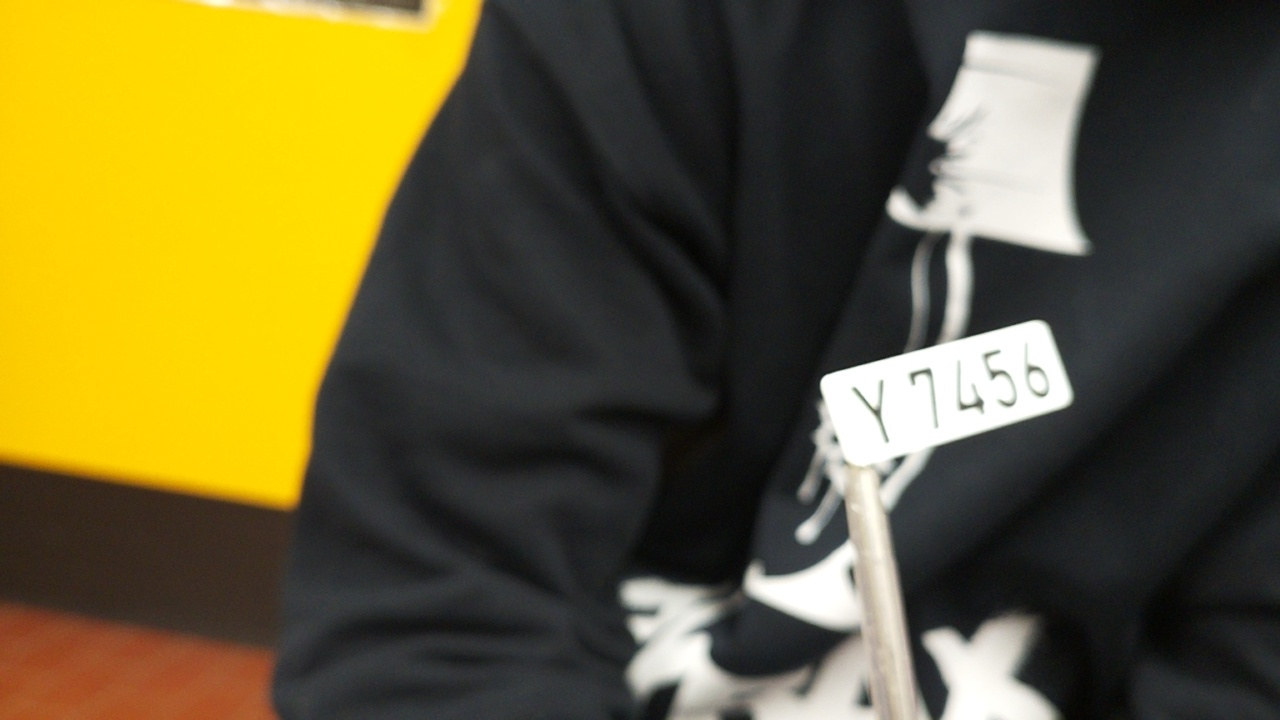license_plate: (817, 317, 1077, 468)
